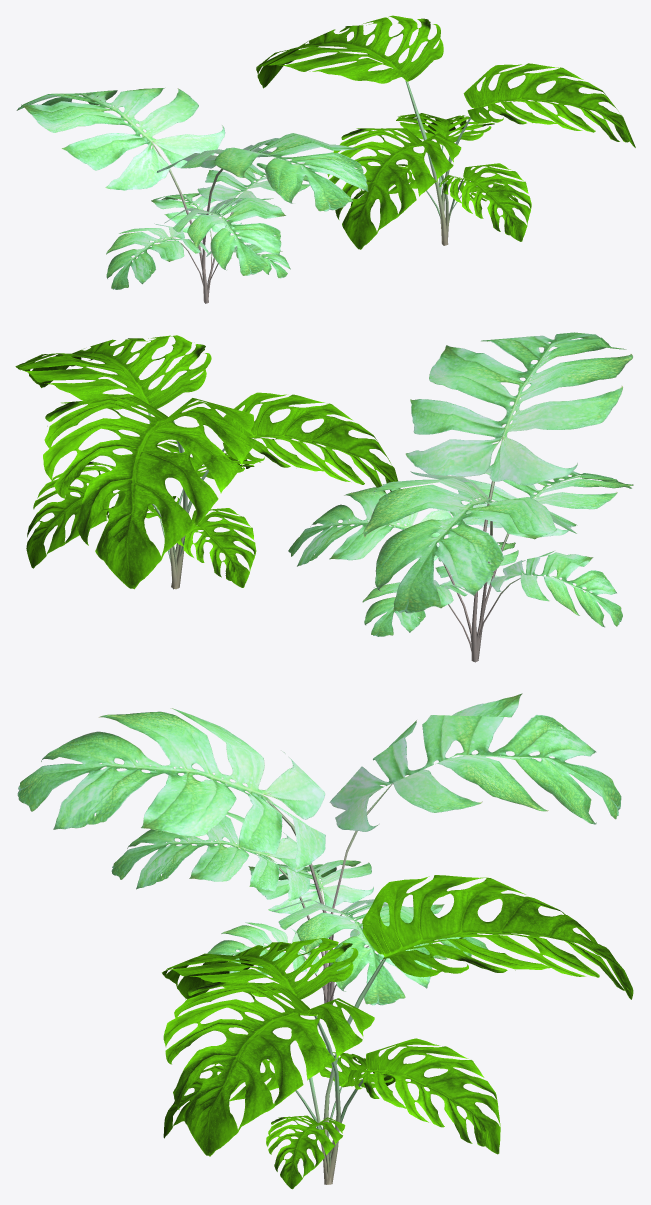
File: monstera_plants.glb
The picture shows the model from 3 angles, top to bottom: view 1: azimuth 30°, elevation 25°; view 2: azimuth 150°, elevation 25°; view 3: azimuth 270°, elevation 25°; orthographic projection. The views are drawn at different scales.
Parts seen in each view (by area): view 1: Monstera_001_0, Monstera_002_1; view 2: Monstera_001_0, Monstera_002_1; view 3: Monstera_001_0, Monstera_002_1.
Part boxes in pixels (x1,y1,x2,y2): Monstera_001_0: (16, 88, 368, 303); Monstera_002_1: (256, 15, 635, 249); Monstera_001_0: (288, 332, 633, 662); Monstera_002_1: (15, 335, 400, 589); Monstera_001_0: (17, 693, 621, 1005); Monstera_002_1: (162, 875, 633, 1189).
Size of the model in its own units: 2.69 by 1 by 2.04.
1 material, 1 textured.
